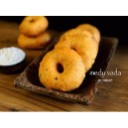vada: (37, 49, 86, 87), (56, 37, 96, 75), (19, 16, 49, 36), (17, 32, 49, 48)
